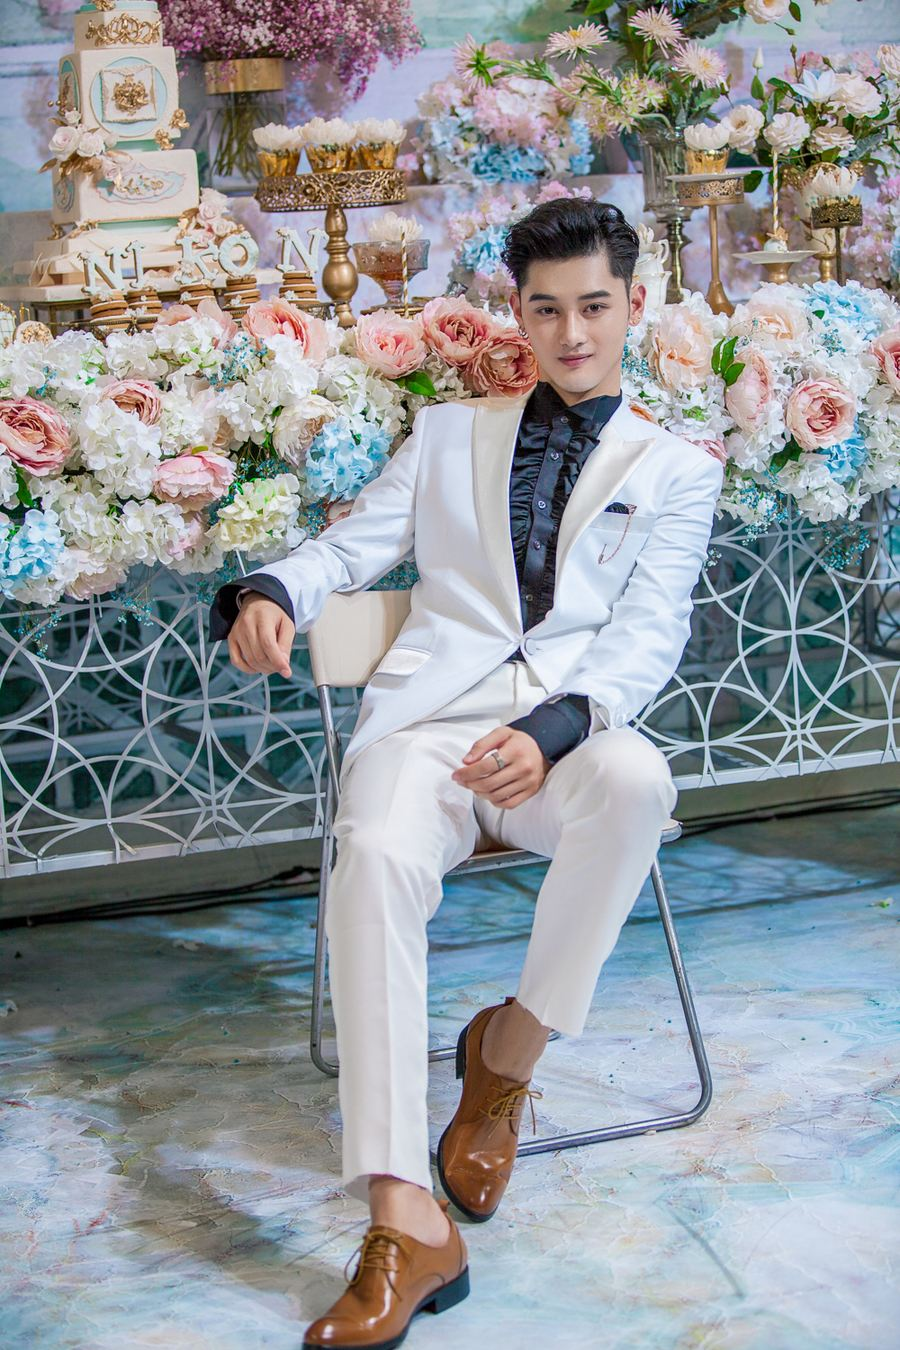person: (280, 147, 795, 1350)
